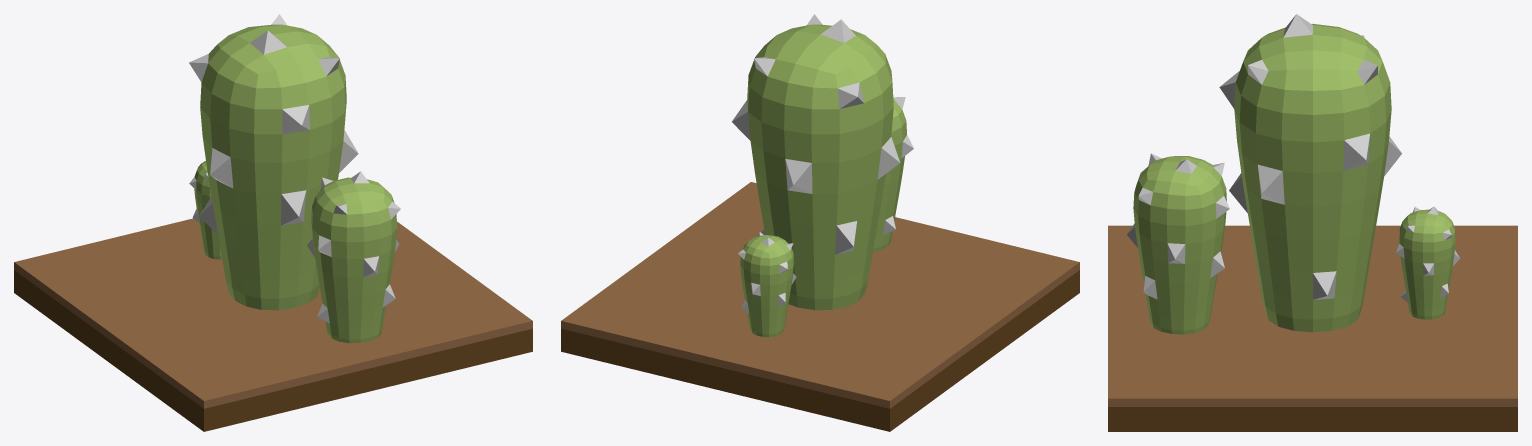
Rendered from cactus_1.fbx.
3 views of the same model, side by side, from view 1: azimuth 30°, elevation 25°; view 2: azimuth 150°, elevation 25°; view 3: azimuth 270°, elevation 25° (orthographic). The views are drawn at different scales.
Parts seen in each view (by area): view 1: Cube; view 2: Cube; view 3: Cube.
Part boxes in pixels (bbox=[...]): Cube: bbox=[14, 14, 532, 431]; Cube: bbox=[561, 14, 1079, 431]; Cube: bbox=[1108, 14, 1517, 431].
Bounding box in the file's own units: 558 × 487 × 558.
1 material, 1 textured.
